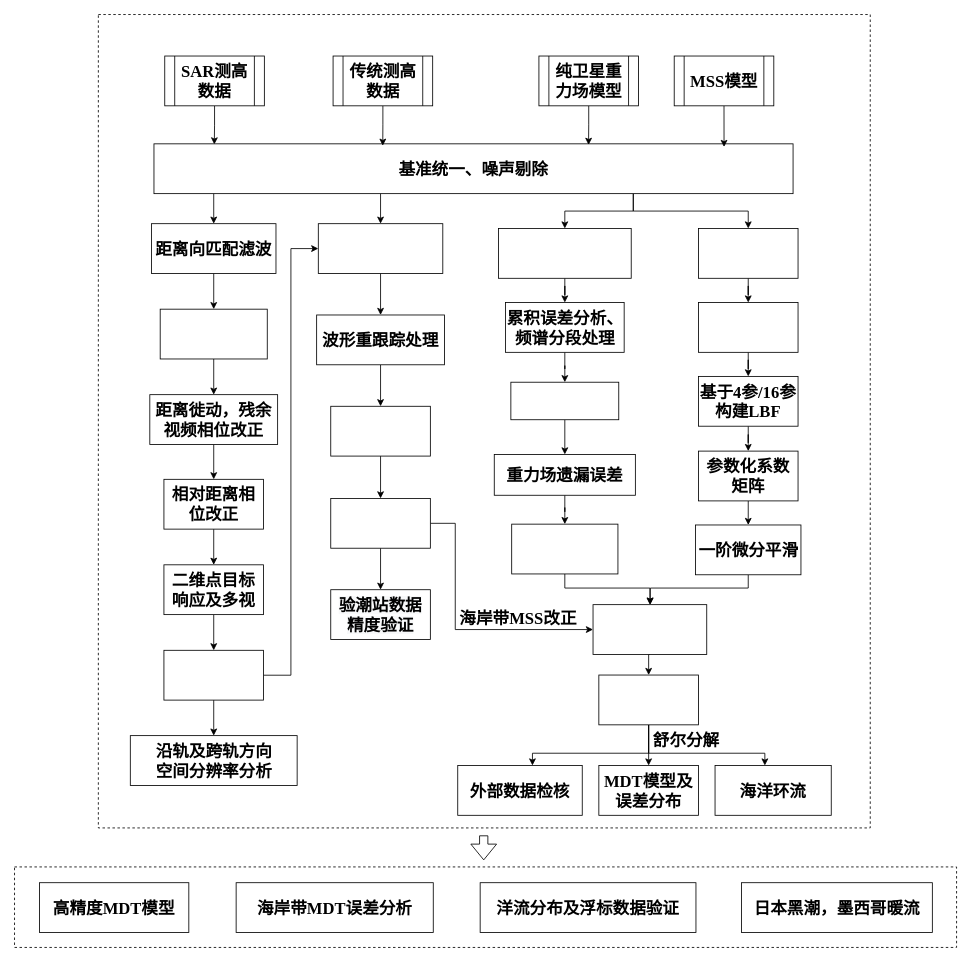
This 971x962 diagram has some shape labels left out. The centre of each missing label's shape, as x and y in pixels:
"MDT参数化" belongs at (748,253).
"MDT观测方程" belongs at (649,629).
"全方差协方差矩阵" belongs at (564,548).
"回波波形" belongs at (213,674).
"地球物理学参数改正" belongs at (380,430).
"子波检测" belongs at (380,248).
"局部坐标系及仿射变换" belongs at (748,327).
"海洋动力学参数估计" belongs at (380,523).
"考拉平滑" belongs at (564,400).
"背向投影算法" belongs at (213,333).
"选权迭代" belongs at (648,699).
"重力场球谐展开" belongs at (564,253).
